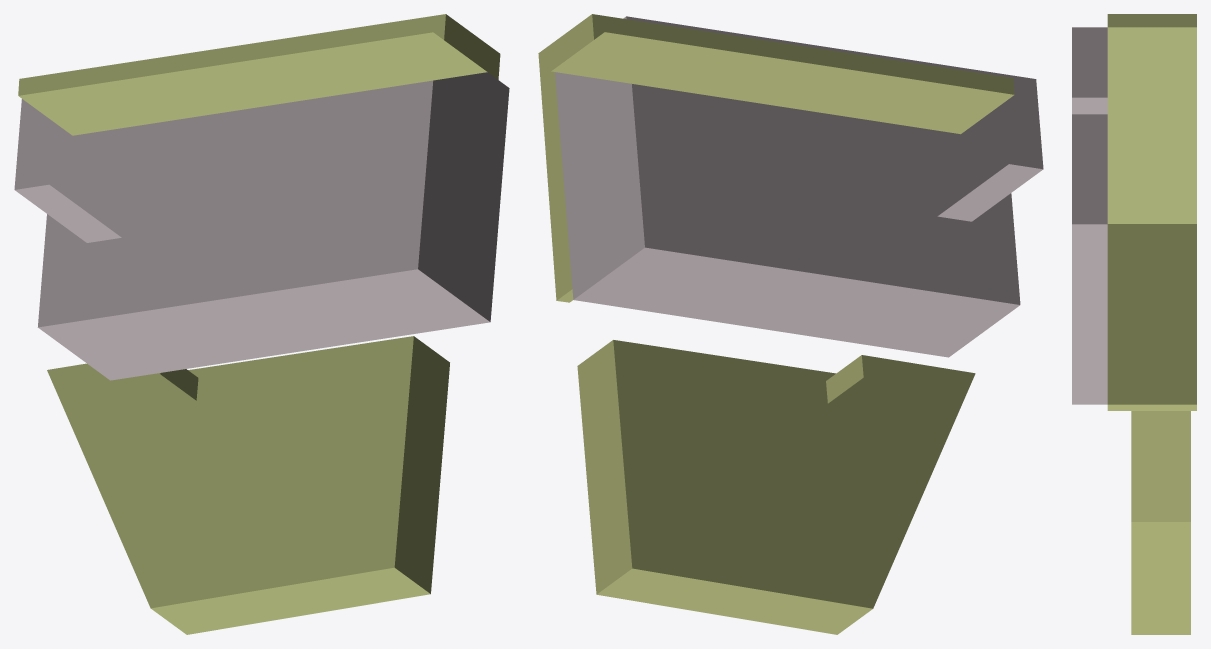
3 renders of one model, left to right at view 1: azimuth 30°, elevation 25°; view 2: azimuth 150°, elevation 25°; view 3: azimuth 270°, elevation 25°, orthographic. The views are drawn at different scales.
Visible parts, largest first — view 1: 0_2_0_1_1_1_1_0_1; view 2: 0_2_0_1_1_1_1_0_1; view 3: 0_2_0_1_1_1_1_0_1.
Boxes of the visible parts, x1=… form: 0_2_0_1_1_1_1_0_1: x1=14, y1=14, x2=509, y2=634; 0_2_0_1_1_1_1_0_1: x1=538, y1=14, x2=1043, y2=634; 0_2_0_1_1_1_1_0_1: x1=1072, y1=14, x2=1196, y2=634.
Size of the model in its own units: 41.54 by 52.6 by 12.61.
